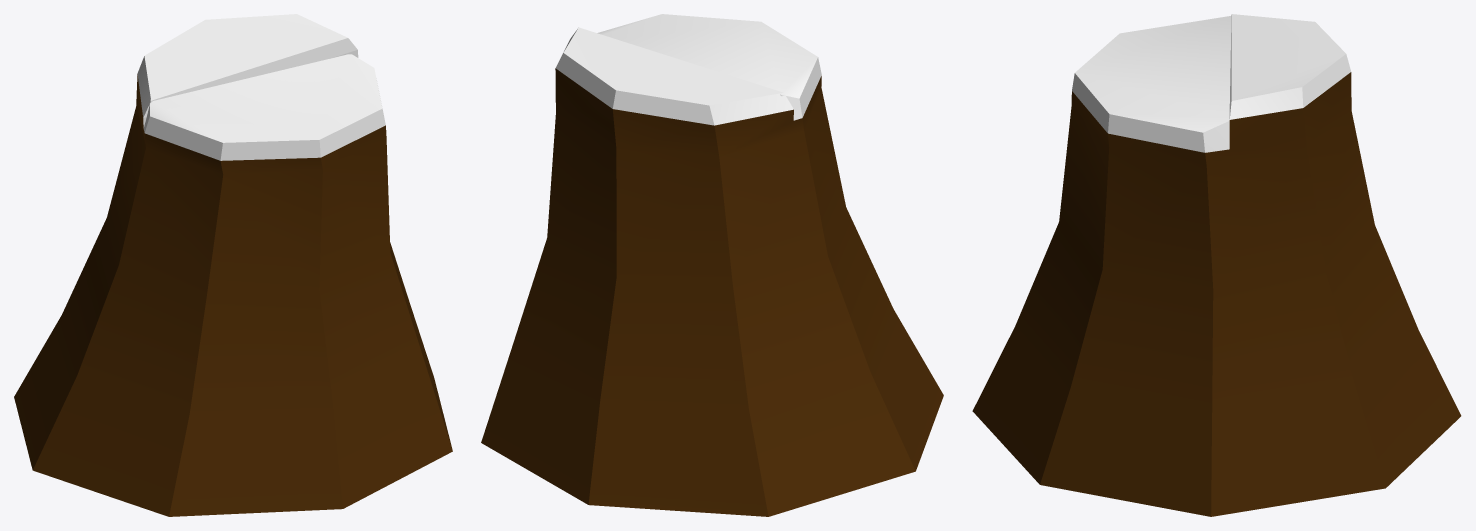
Rendered from christmasTreeStump.dae.
3 renders of one model, left to right at view 1: azimuth 30°, elevation 25°; view 2: azimuth 150°, elevation 25°; view 3: azimuth 270°, elevation 25°, orthographic. The views are drawn at different scales.
Visible parts, largest first — view 1: Tree_stump; view 2: Tree_stump; view 3: Tree_stump.
Part boxes in pixels (<box>): Tree_stump: <box>14,14,452,516</box>; Tree_stump: <box>481,14,943,516</box>; Tree_stump: <box>972,14,1461,516</box>.
Size of the model in its own units: 0.0159 by 0.0159 by 0.0137.
